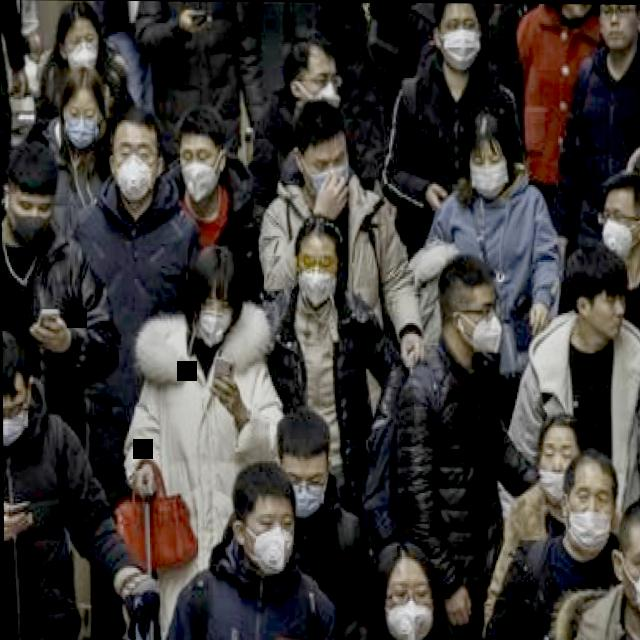Mask: (428, 243, 507, 366), (563, 471, 615, 557), (246, 504, 295, 579), (386, 569, 433, 640), (279, 461, 327, 522), (436, 9, 481, 73), (113, 137, 157, 201), (539, 429, 578, 501), (303, 145, 349, 201), (297, 247, 338, 309), (7, 197, 53, 252), (180, 145, 222, 202), (603, 194, 640, 258), (470, 140, 509, 200), (300, 57, 343, 107), (196, 297, 235, 345), (2, 384, 31, 446), (64, 99, 102, 146), (63, 27, 100, 74), (621, 536, 640, 622)
NO-Mask: (589, 292, 627, 343), (599, 4, 639, 52), (566, 3, 594, 18)
